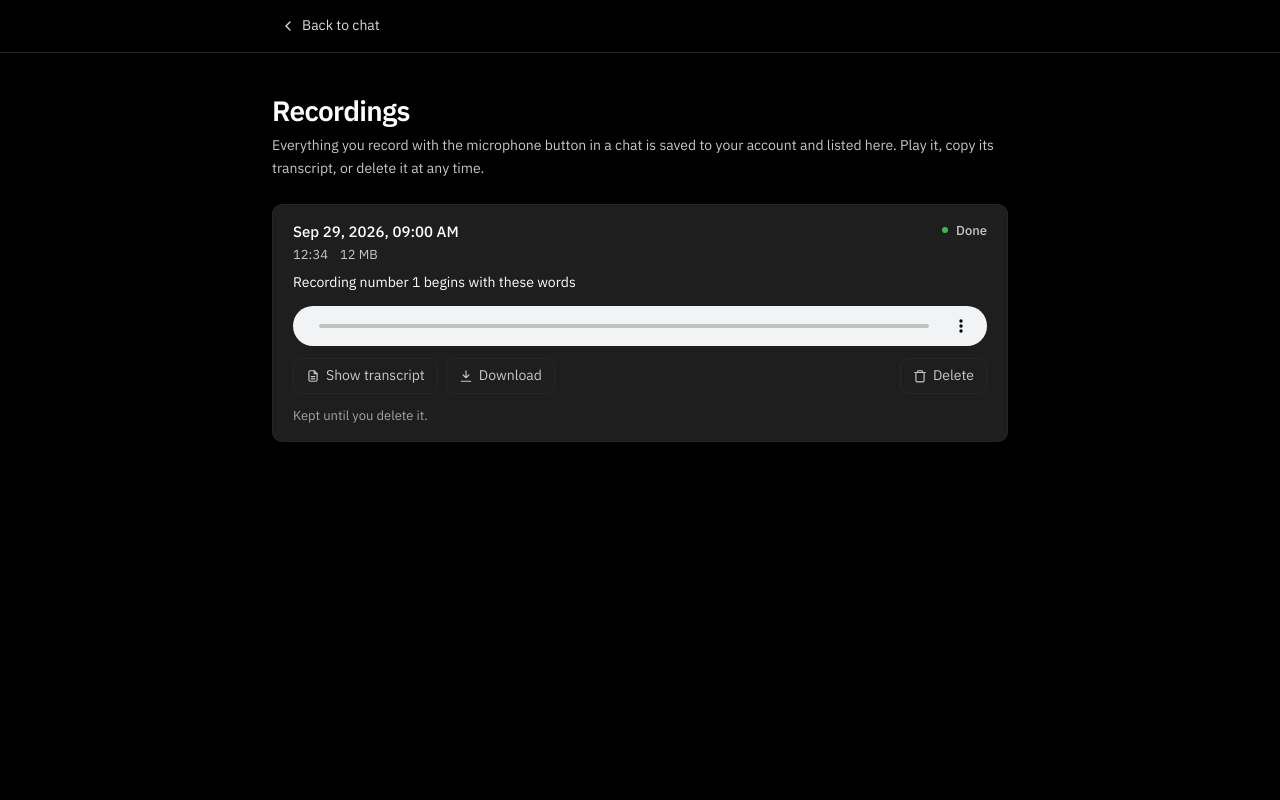
Test: deleting › treats a recording that is already gone (404) as deleted
Click the button named "Delete the recording from" at (943,376), box [900,358,987,394]
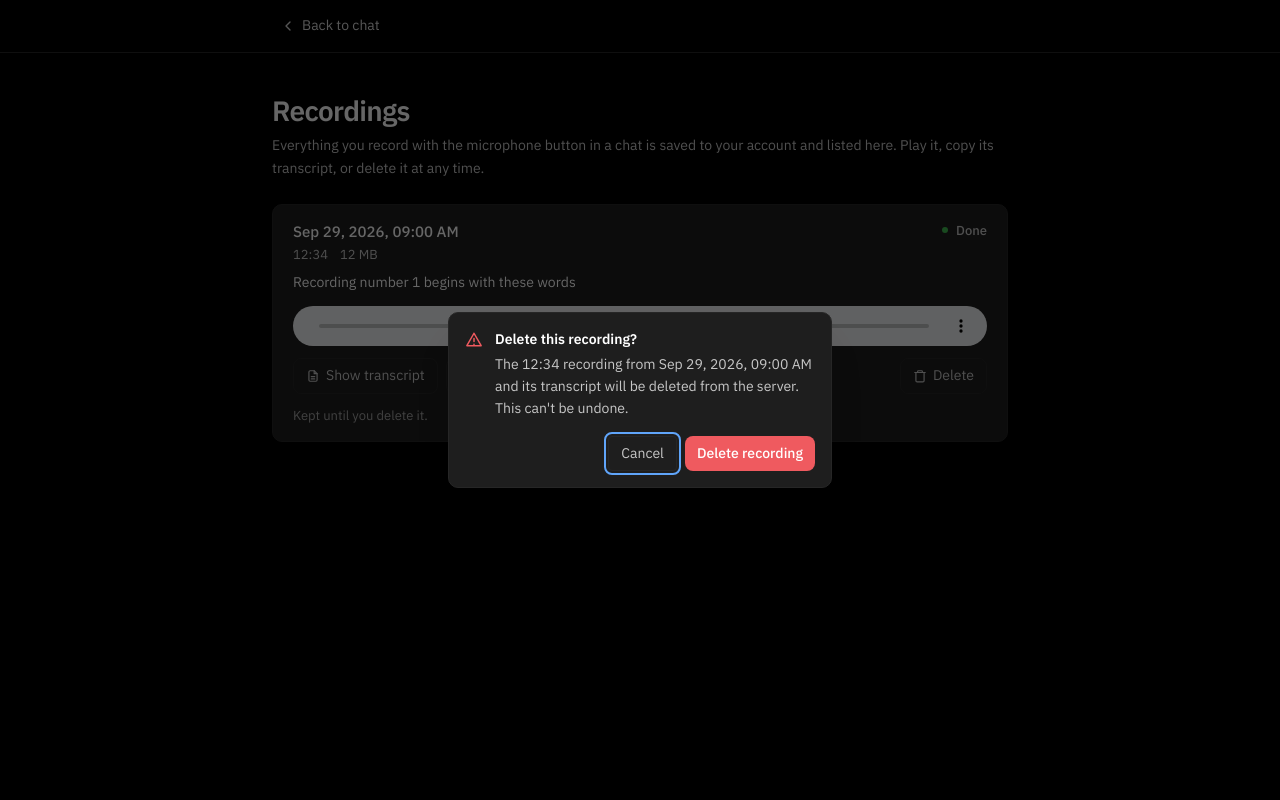
Click the button "Delete recording" at (750,453), box [685,436,815,471]
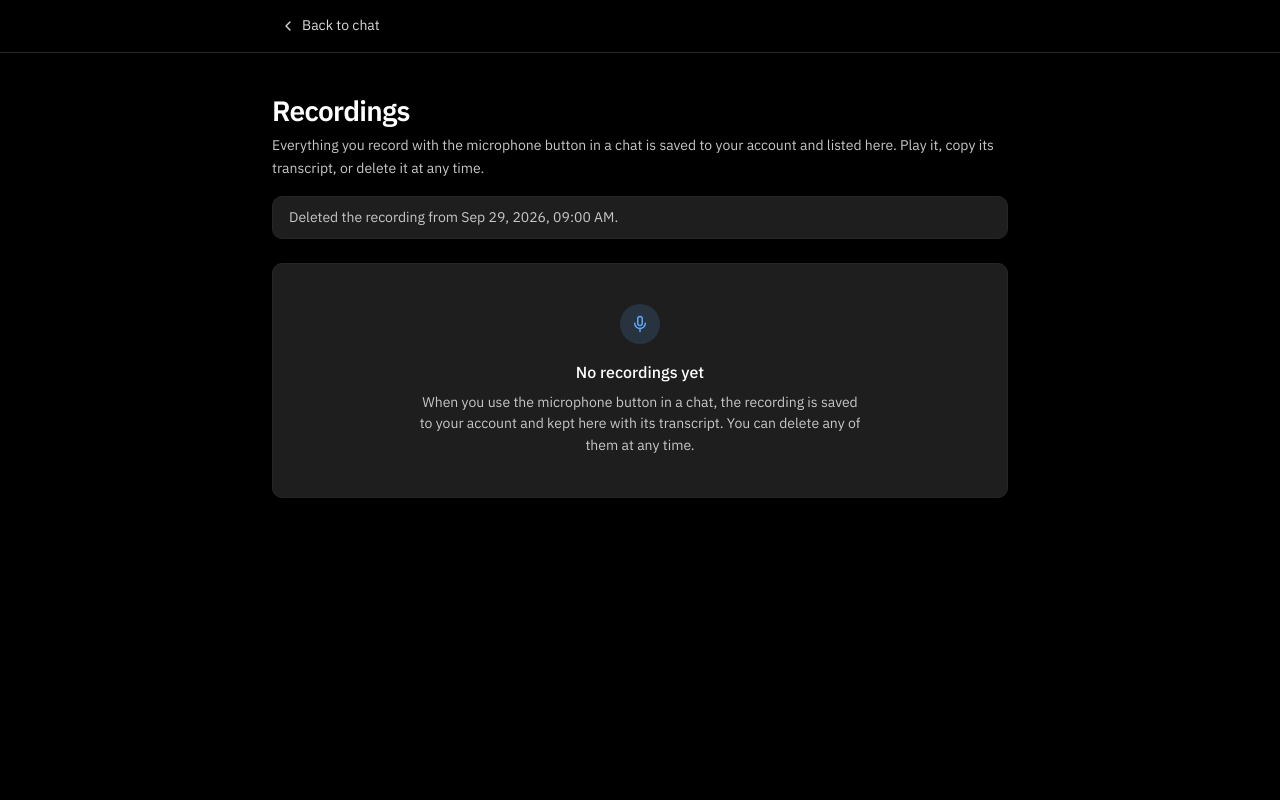
Result: the heading "No recordings yet" is shown at [576,362,704,382]
